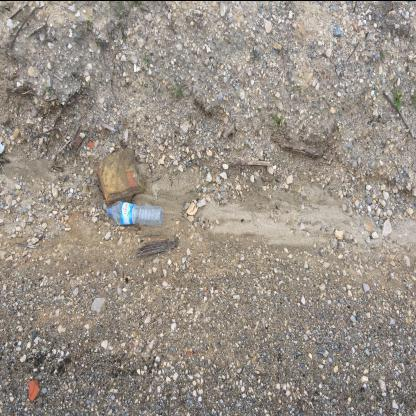plastik: (108, 201, 165, 227)
